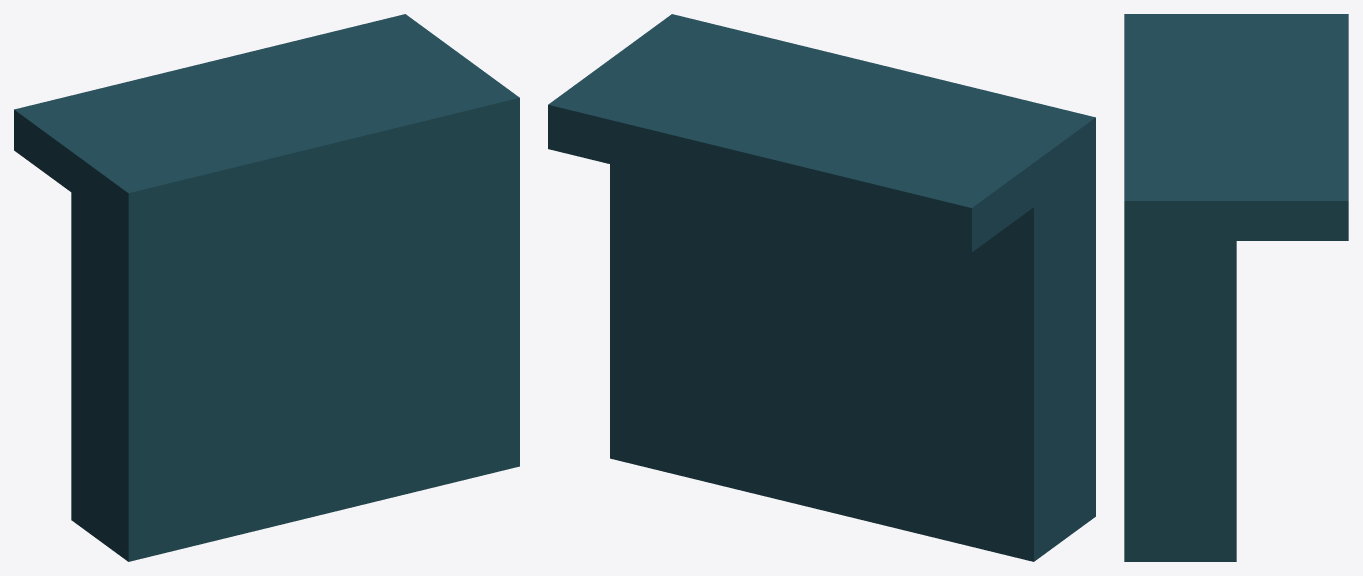
Rendered from Desk.glb.
3 views of the same model, side by side, from view 1: azimuth 30°, elevation 25°; view 2: azimuth 150°, elevation 25°; view 3: azimuth 270°, elevation 25° (orthographic). The views are drawn at different scales.
Parts seen in each view (by area): view 1: CashierDesk; view 2: CashierDesk; view 3: CashierDesk.
Boxes of the visible parts, box(x1,y1,x2,y2) form: CashierDesk: box(14, 14, 519, 561); CashierDesk: box(548, 14, 1095, 561); CashierDesk: box(1124, 14, 1348, 561).
Size of the model in its own units: 1 by 0.9 by 0.5065.
Materials: 1 (1 with a texture image).
